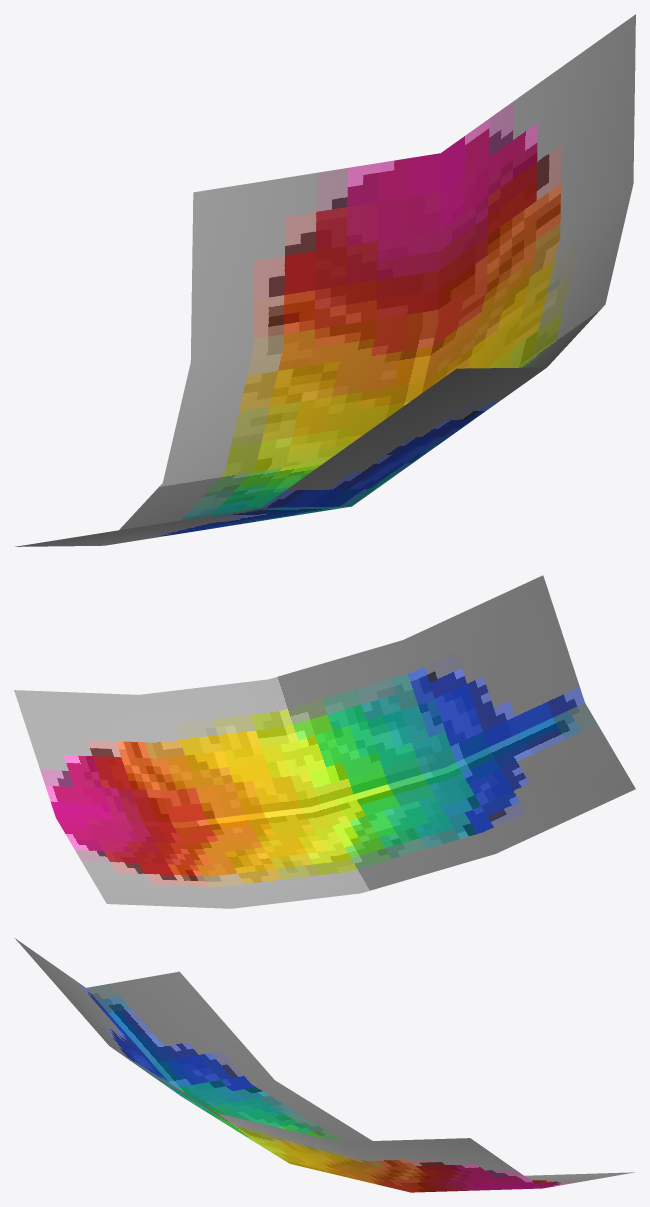
File: cap_feather_rainbow.dae
The picture shows the model from 3 angles, top to bottom: view 1: azimuth 30°, elevation 25°; view 2: azimuth 150°, elevation 25°; view 3: azimuth 270°, elevation 25°; orthographic projection. The views are drawn at different scales.
Visible parts, largest first — view 1: cap_feather_rainbow; view 2: cap_feather_rainbow; view 3: cap_feather_rainbow.
Part boxes in pixels (x1,y1,x2,y2): cap_feather_rainbow: [15, 14, 635, 546]; cap_feather_rainbow: [14, 575, 635, 908]; cap_feather_rainbow: [15, 938, 634, 1192].
Size of the model in its own units: 12.55 by 4.77 by 13.08.
Materials: 1 (1 with a texture image).
